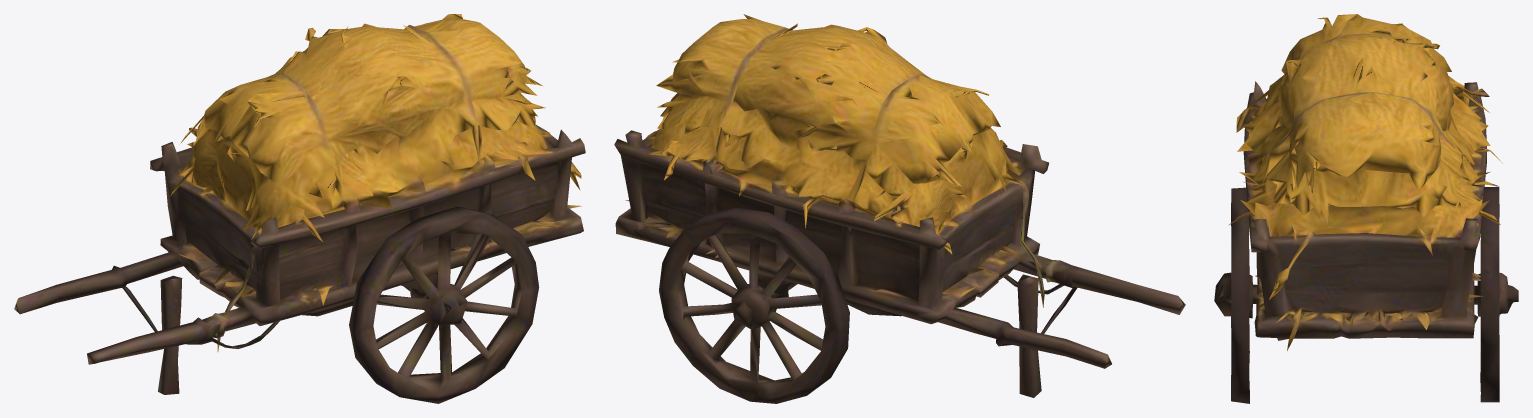
The model's file is hay_cart.glb.
The picture shows the model from 3 angles, left to right: view 1: azimuth 30°, elevation 25°; view 2: azimuth 150°, elevation 25°; view 3: azimuth 270°, elevation 25°; orthographic projection. The views are drawn at different scales.
Visible parts, largest first — view 1: tripo_node_251ec8ee-7379-4e85-a4b6-af08995b1a15; view 2: tripo_node_251ec8ee-7379-4e85-a4b6-af08995b1a15; view 3: tripo_node_251ec8ee-7379-4e85-a4b6-af08995b1a15.
Part boxes in pixels (<box>): tripo_node_251ec8ee-7379-4e85-a4b6-af08995b1a15: <box>14,14,585,403</box>; tripo_node_251ec8ee-7379-4e85-a4b6-af08995b1a15: <box>614,14,1185,403</box>; tripo_node_251ec8ee-7379-4e85-a4b6-af08995b1a15: <box>1214,14,1518,403</box>.
Size of the model in its own units: 0.9788 by 0.6213 by 0.4976.
Materials: 1 (1 with a texture image).
